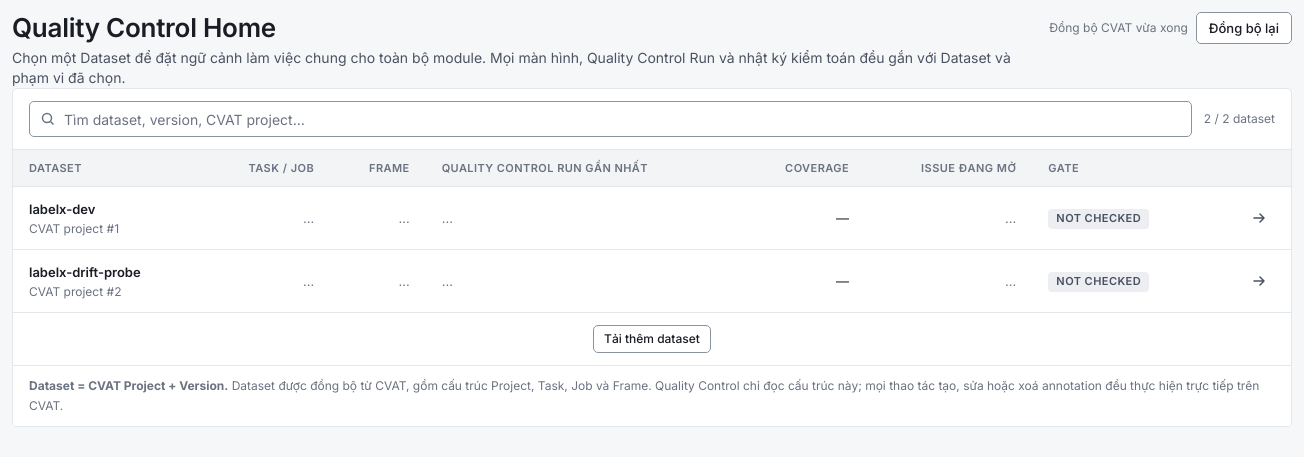
Test: Overview: Quality Control Home và Quality Summary dùng dữ liệu thật › Search và phân trang › Thử lại tải trang sau lỗi phân trang, giữ trang trước
Click the button "Tải thêm dataset": (652,339) [593, 325, 711, 353]
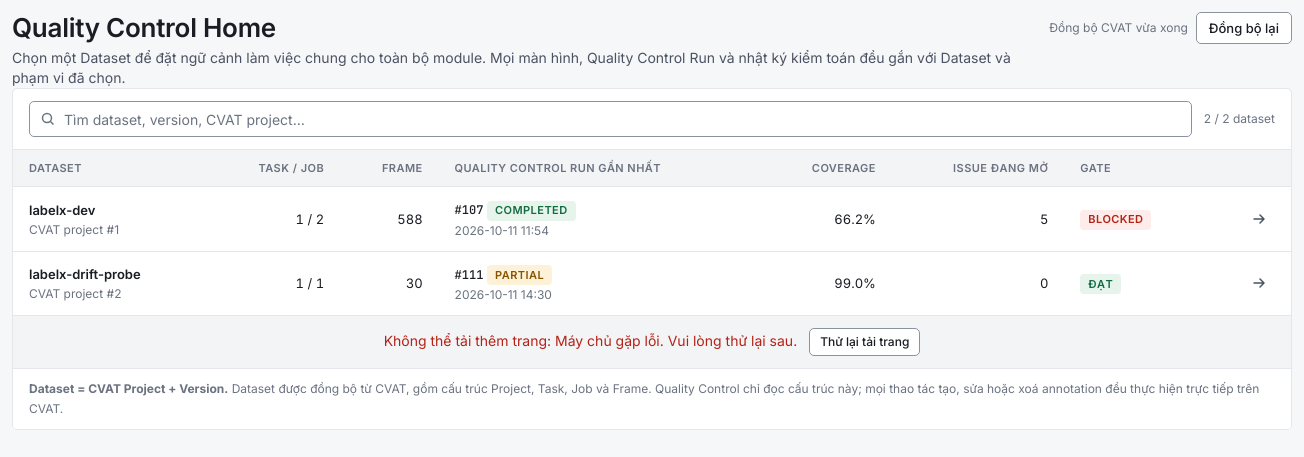
Check: the text "Không thể tải thêm trang" is shown, box [384, 332, 797, 349]
Click the button "Thử lại tải trang": (865,342) [809, 328, 920, 356]
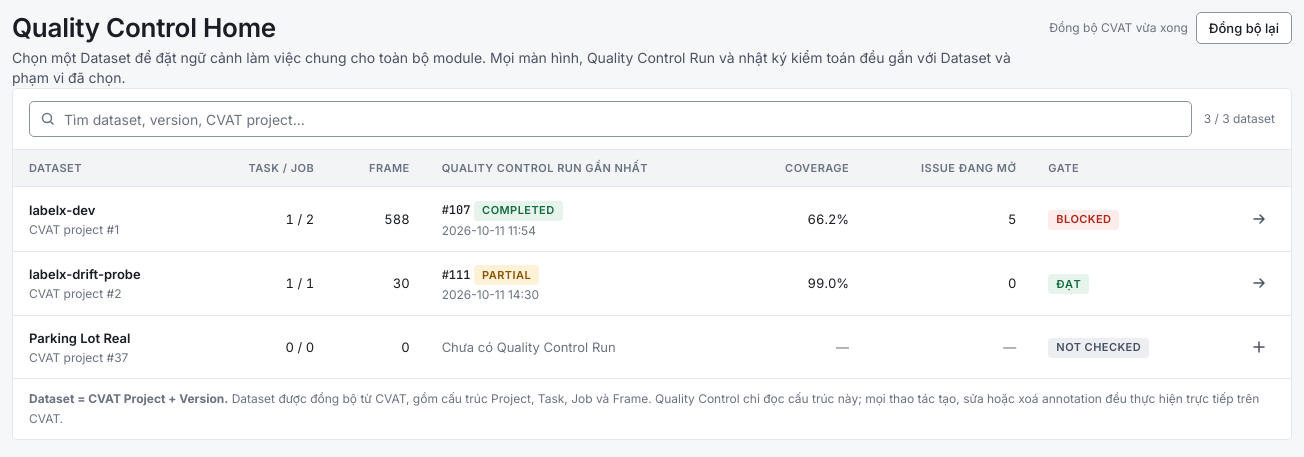
Check: the text "labelx-dev" is shown, box [29, 202, 95, 218]
Check: the text "Parking Lot Real" is shown, box [29, 330, 130, 346]
